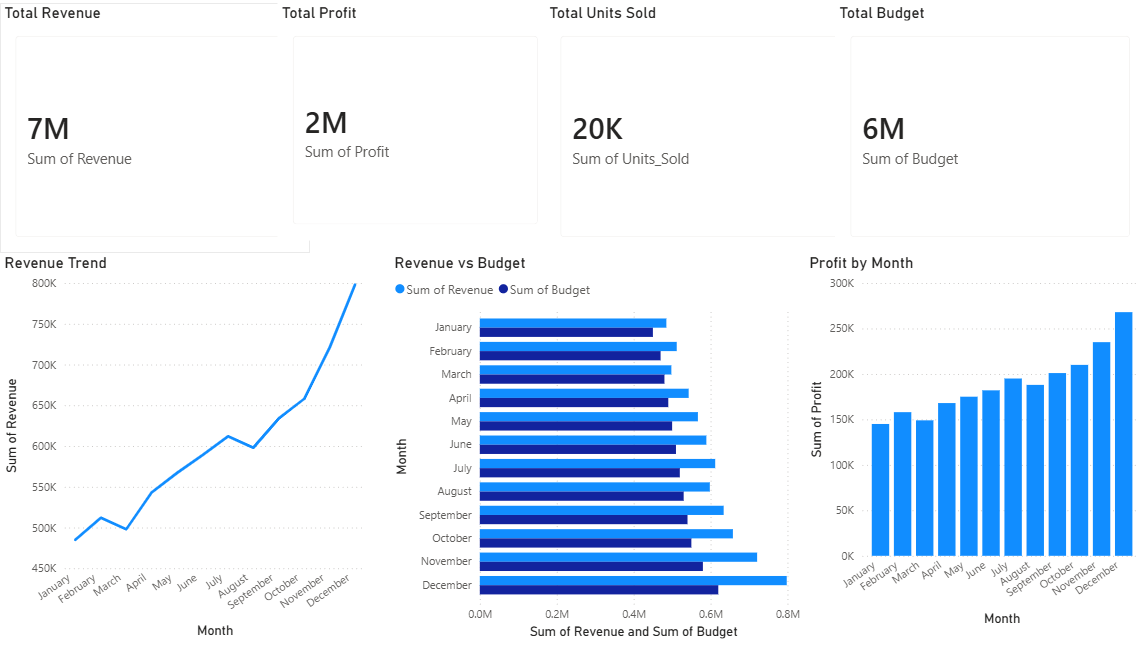

The dashboard page shown, as its layout file describes it:
{"tool":"powerbi","page":{"name":"Page 1","canvas":[1280,720],"ordinal":0},"visuals":[{"type":"cardVisual","fields":{"Data":["Sum(Sheet1.Revenue)"]},"box":[10.1,0,340.6,274.8],"z":0},{"type":"cardVisual","fields":{"Data":["Sum(Sheet1.Profit)"]},"box":[325.4,0,303.5,261.3],"z":1000},{"type":"cardVisual","fields":{"Data":["Sum(Sheet1.Units_Sold)"]},"box":[615.4,0,340.6,274.8],"z":2000},{"type":"cardVisual","fields":{"Data":["Sum(Sheet1.Budget)"]},"box":[939.1,0,340.6,274.8],"z":3000},{"type":"lineChart","fields":{"Category":["Sheet1.Month.Variation.Date Hierarchy.Month"],"Y":["Sum(Sheet1.Revenue)"]},"box":[22,285.4,406.2,428.1],"z":4000},{"type":"clusteredBarChart","fields":{"Category":["Sheet1.Month.Variation.Date Hierarchy.Month"],"Y":["Sum(Sheet1.Revenue)","Sum(Sheet1.Budget)"]},"box":[450.1,285.4,455.6,428.1],"z":5000},{"type":"clusteredColumnChart","fields":{"Category":["Sheet1.Month.Variation.Date Hierarchy.Month"],"Y":["Sum(Sheet1.Profit)"]},"box":[905.7,274.4,363.6,414.4],"z":5001}]}

Visuals, with their boxes in screenshot pixels (x1, y1, x2, y2), scaled from the page's 1280x720 canvas onto the 1137x648 screenshot:
cardVisual - Sum(Sheet1.Revenue): box(9, 0, 312, 247)
cardVisual - Sum(Sheet1.Profit): box(289, 0, 559, 235)
cardVisual - Sum(Sheet1.Units_Sold): box(547, 0, 849, 247)
cardVisual - Sum(Sheet1.Budget): box(834, 0, 1136, 247)
lineChart - Sheet1.Month.Variation.Date Hierarchy.Month x Sum(Sheet1.Revenue): box(20, 257, 380, 642)
clusteredBarChart - Sheet1.Month.Variation.Date Hierarchy.Month x Sum(Sheet1.Revenue): box(400, 257, 805, 642)
clusteredColumnChart - Sheet1.Month.Variation.Date Hierarchy.Month x Sum(Sheet1.Profit): box(805, 247, 1127, 620)
